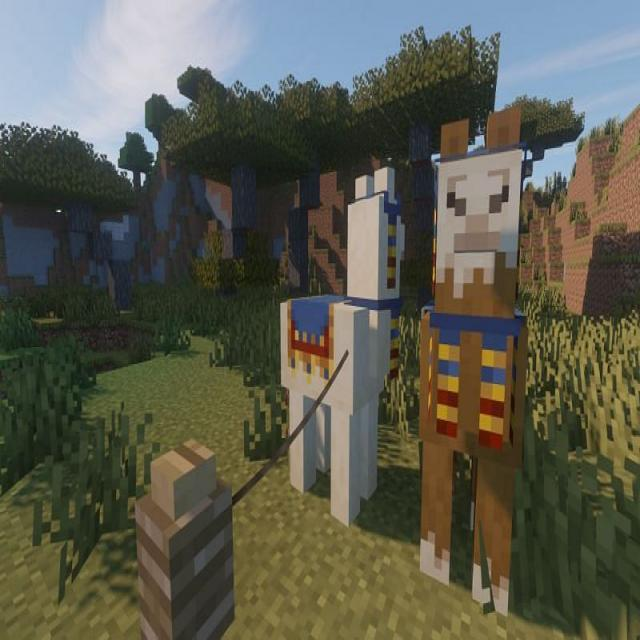Trader Lama: (418, 105, 530, 617), (280, 166, 407, 529)
